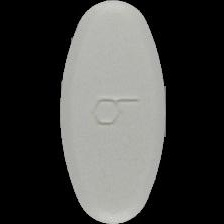51079-083: (0, 0, 224, 224)
